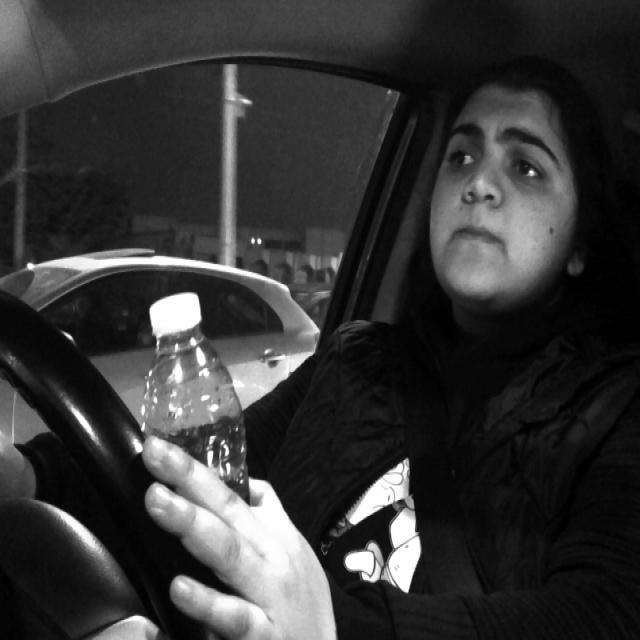drinking: (122, 282, 256, 640)
